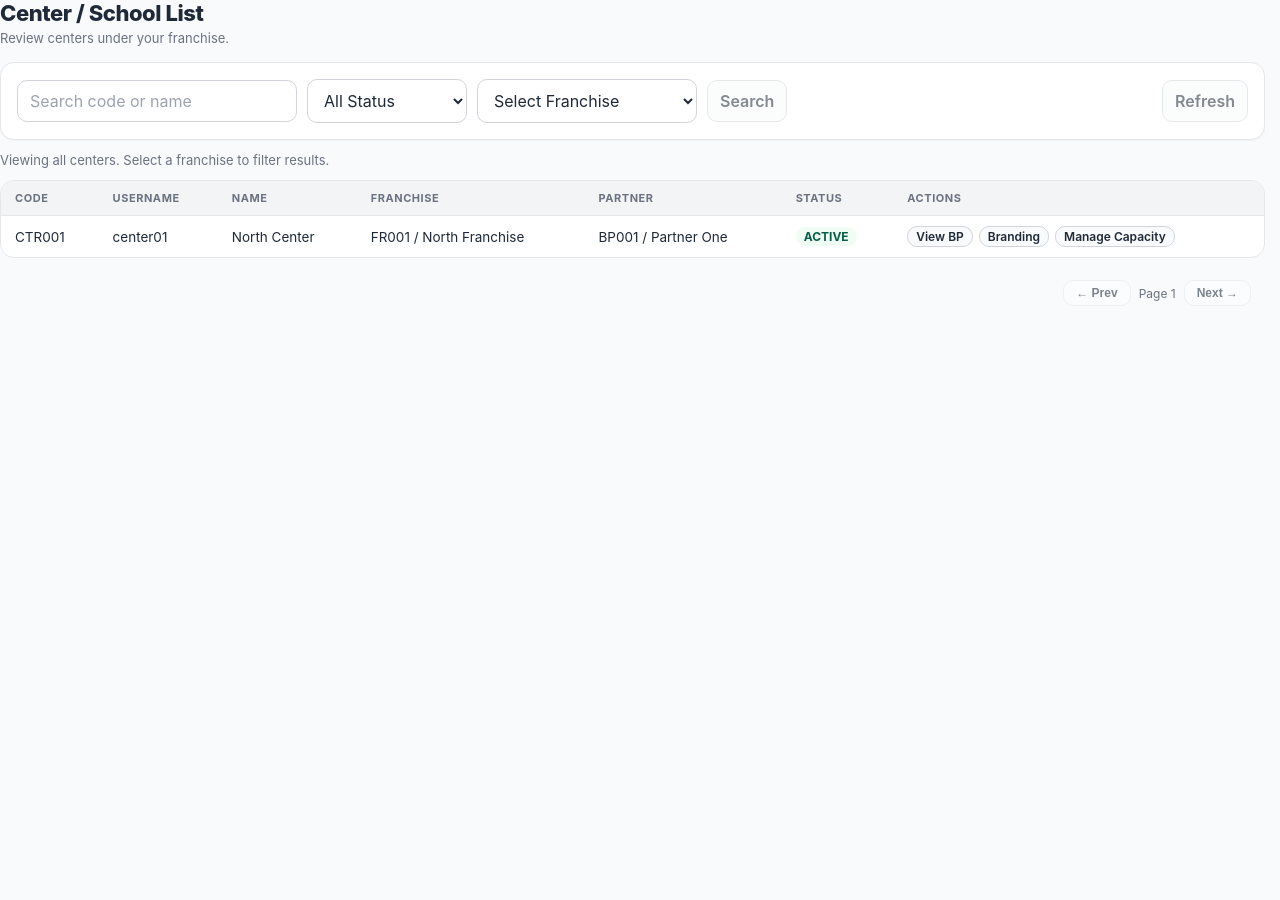
SuperadminCentersPage › opens the capacity modal and shows current usage
Check: the text "North Center" is shown, box x1=218 y1=216 x2=357 y2=257
Click the button "Manage Capacity". click: (1115, 236)
box: x1=1055 y1=226 x2=1175 y2=247
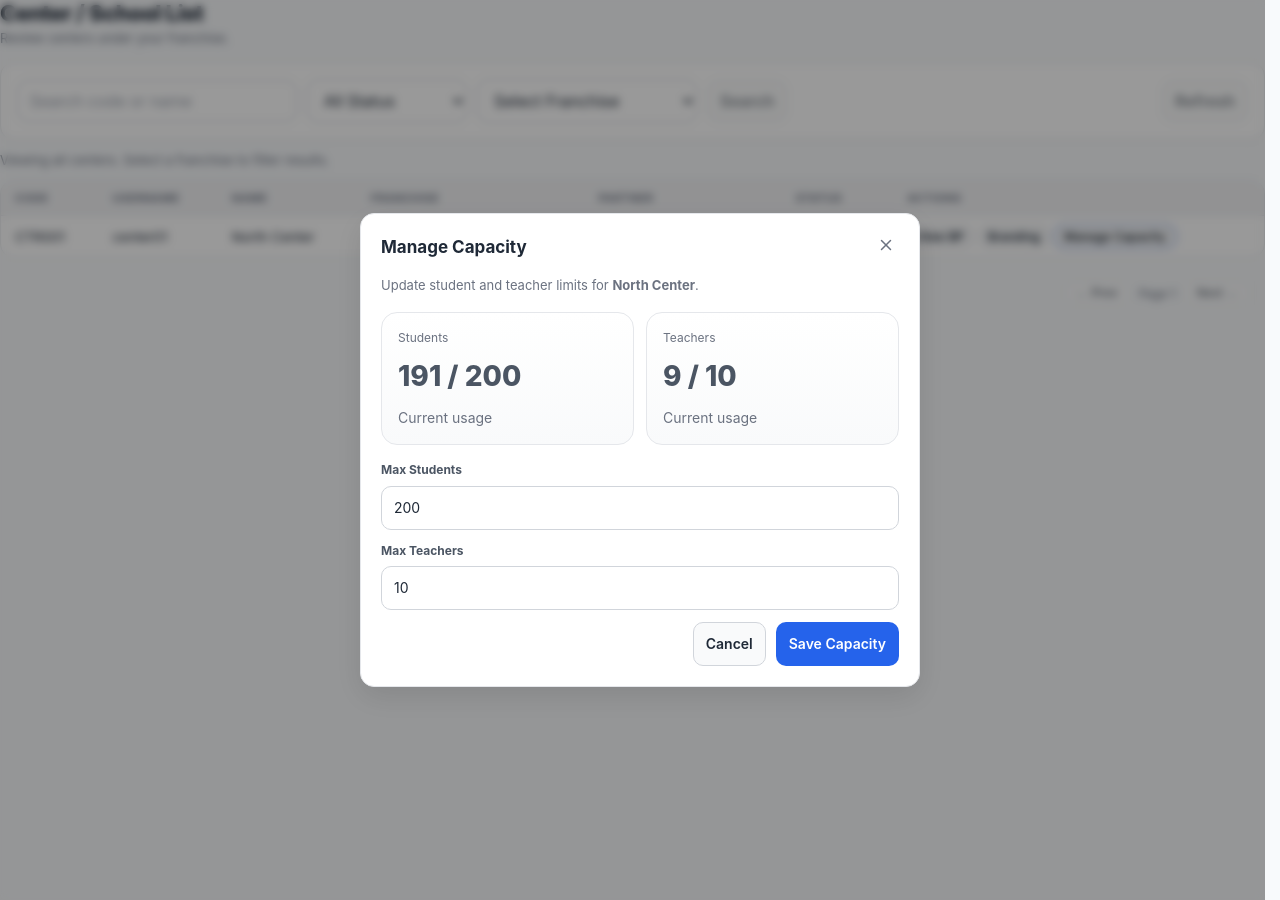
Check: the heading "Manage Capacity" is shown, box x1=381 y1=237 x2=527 y2=257
Check: the text "191 / 200" is shown, box x1=398 y1=359 x2=521 y2=393
Check: the text "9 / 10" is shown, box x1=663 y1=359 x2=737 y2=393
